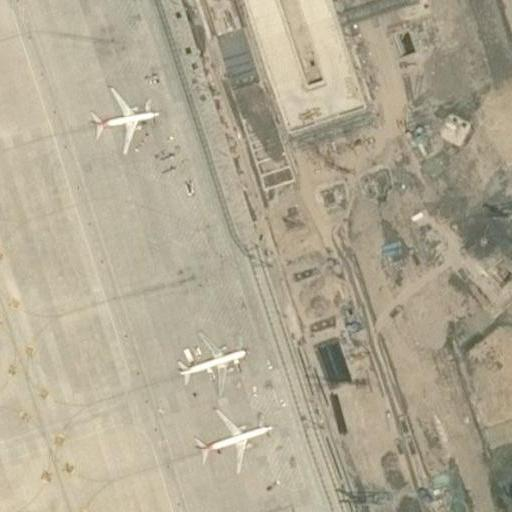Aircraft: (164, 330, 259, 388), (86, 89, 161, 156), (195, 414, 273, 471)
